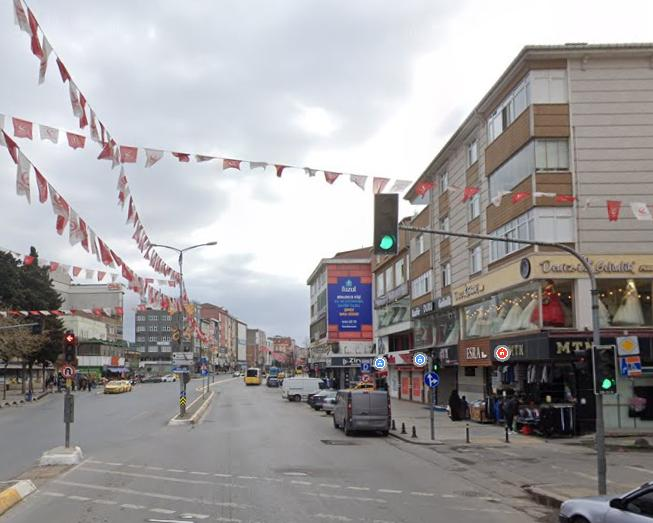greenlight: (374, 193, 400, 253), (594, 342, 616, 396)
redlight: (61, 332, 77, 368)
